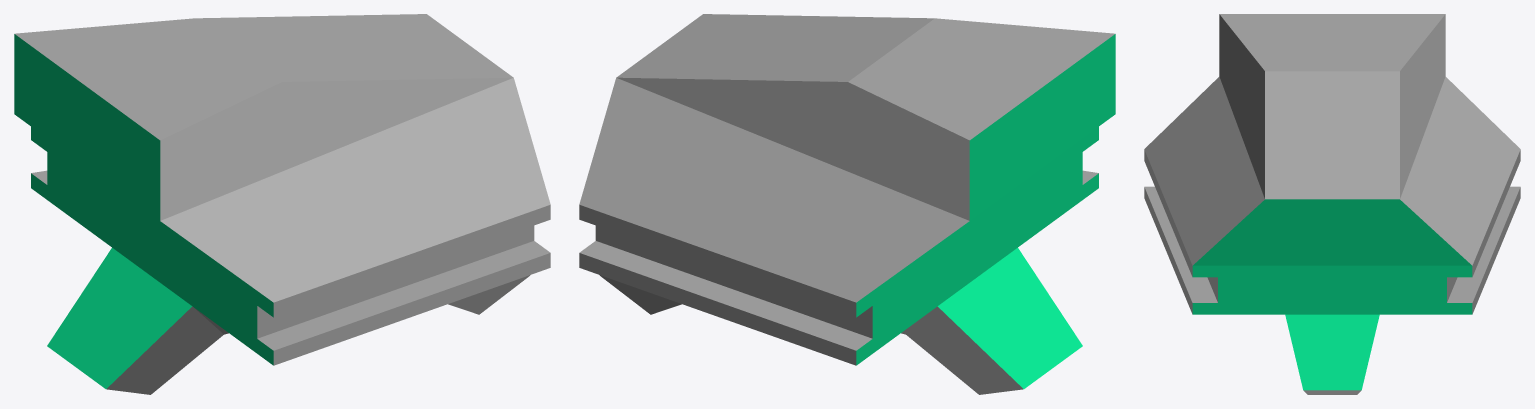
File: SM_FrigateHullForward.fbx
3 renders of one model, left to right at view 1: azimuth 30°, elevation 25°; view 2: azimuth 150°, elevation 25°; view 3: azimuth 270°, elevation 25°, orthographic. The views are drawn at different scales.
Parts seen in each view (by area): view 1: polySurface46; view 2: polySurface46; view 3: polySurface46.
Part boxes in pixels (bbox=[...]): polySurface46: bbox=[14, 14, 550, 394]; polySurface46: bbox=[579, 14, 1115, 394]; polySurface46: bbox=[1144, 14, 1520, 394].
Bounding box in the file's own units: 2017 × 1363 × 1948.
